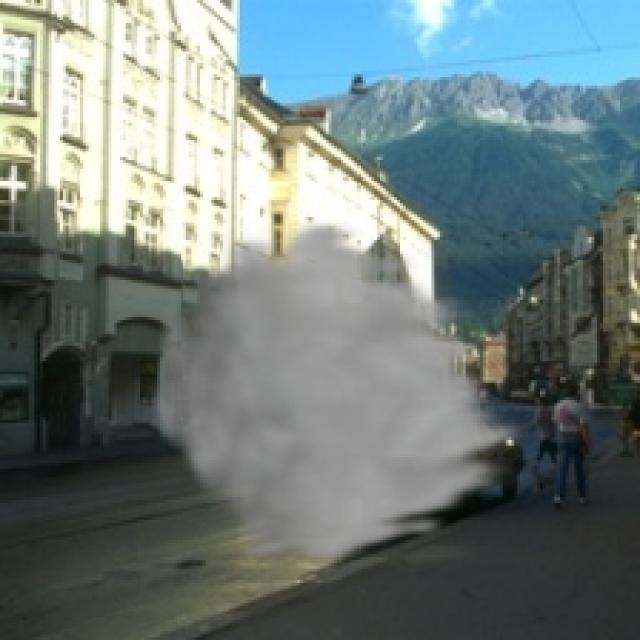smoke: (143, 217, 537, 566)
